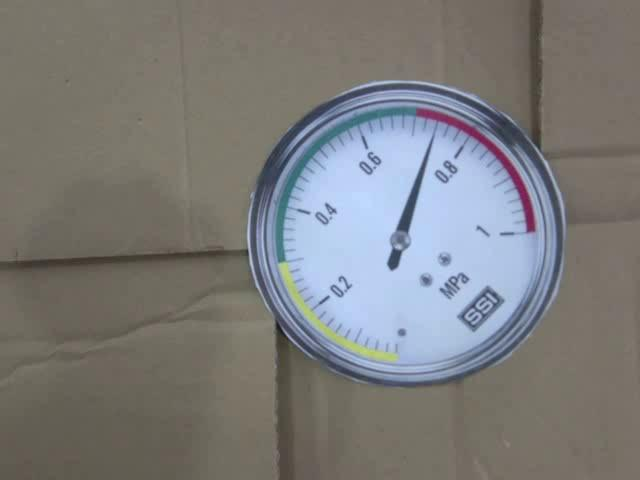Dashboard: (247, 80, 567, 386)
ssi: (454, 287, 504, 331)
